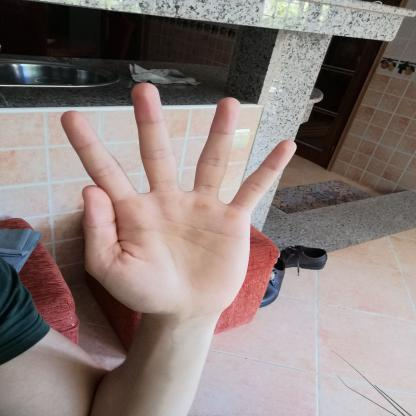SHEEN: (42, 70, 314, 326)
